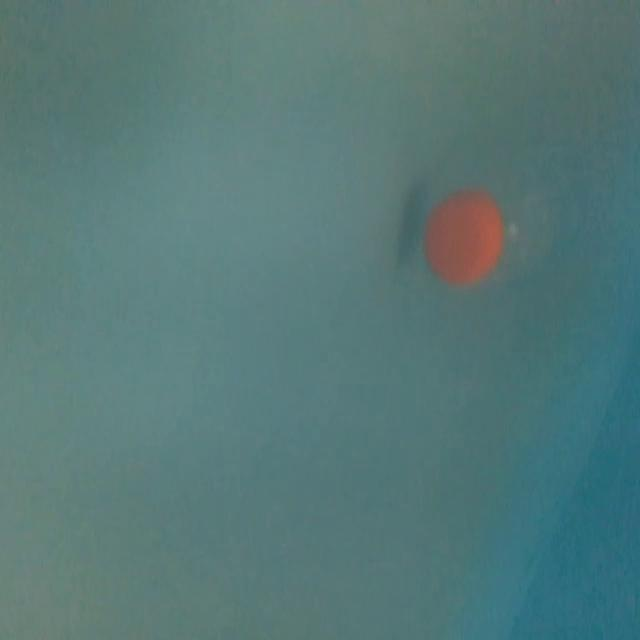plastic bottle: (410, 134, 608, 294)
